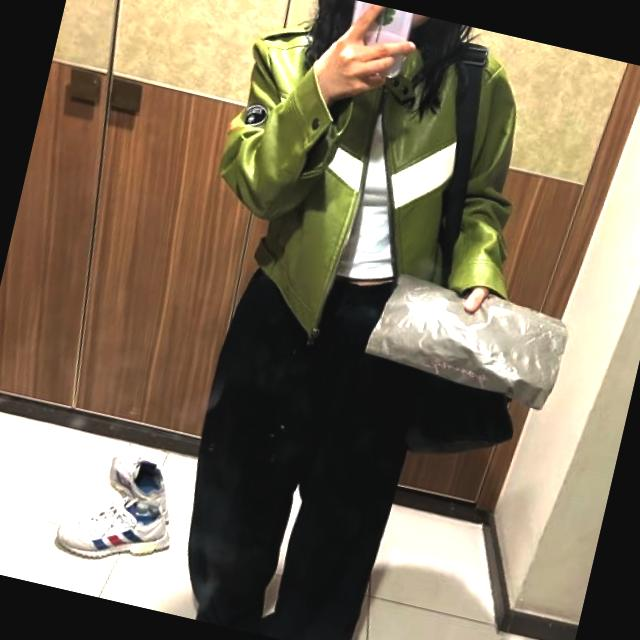jacket: (183, 0, 559, 377)
slacks: (162, 240, 450, 640)
